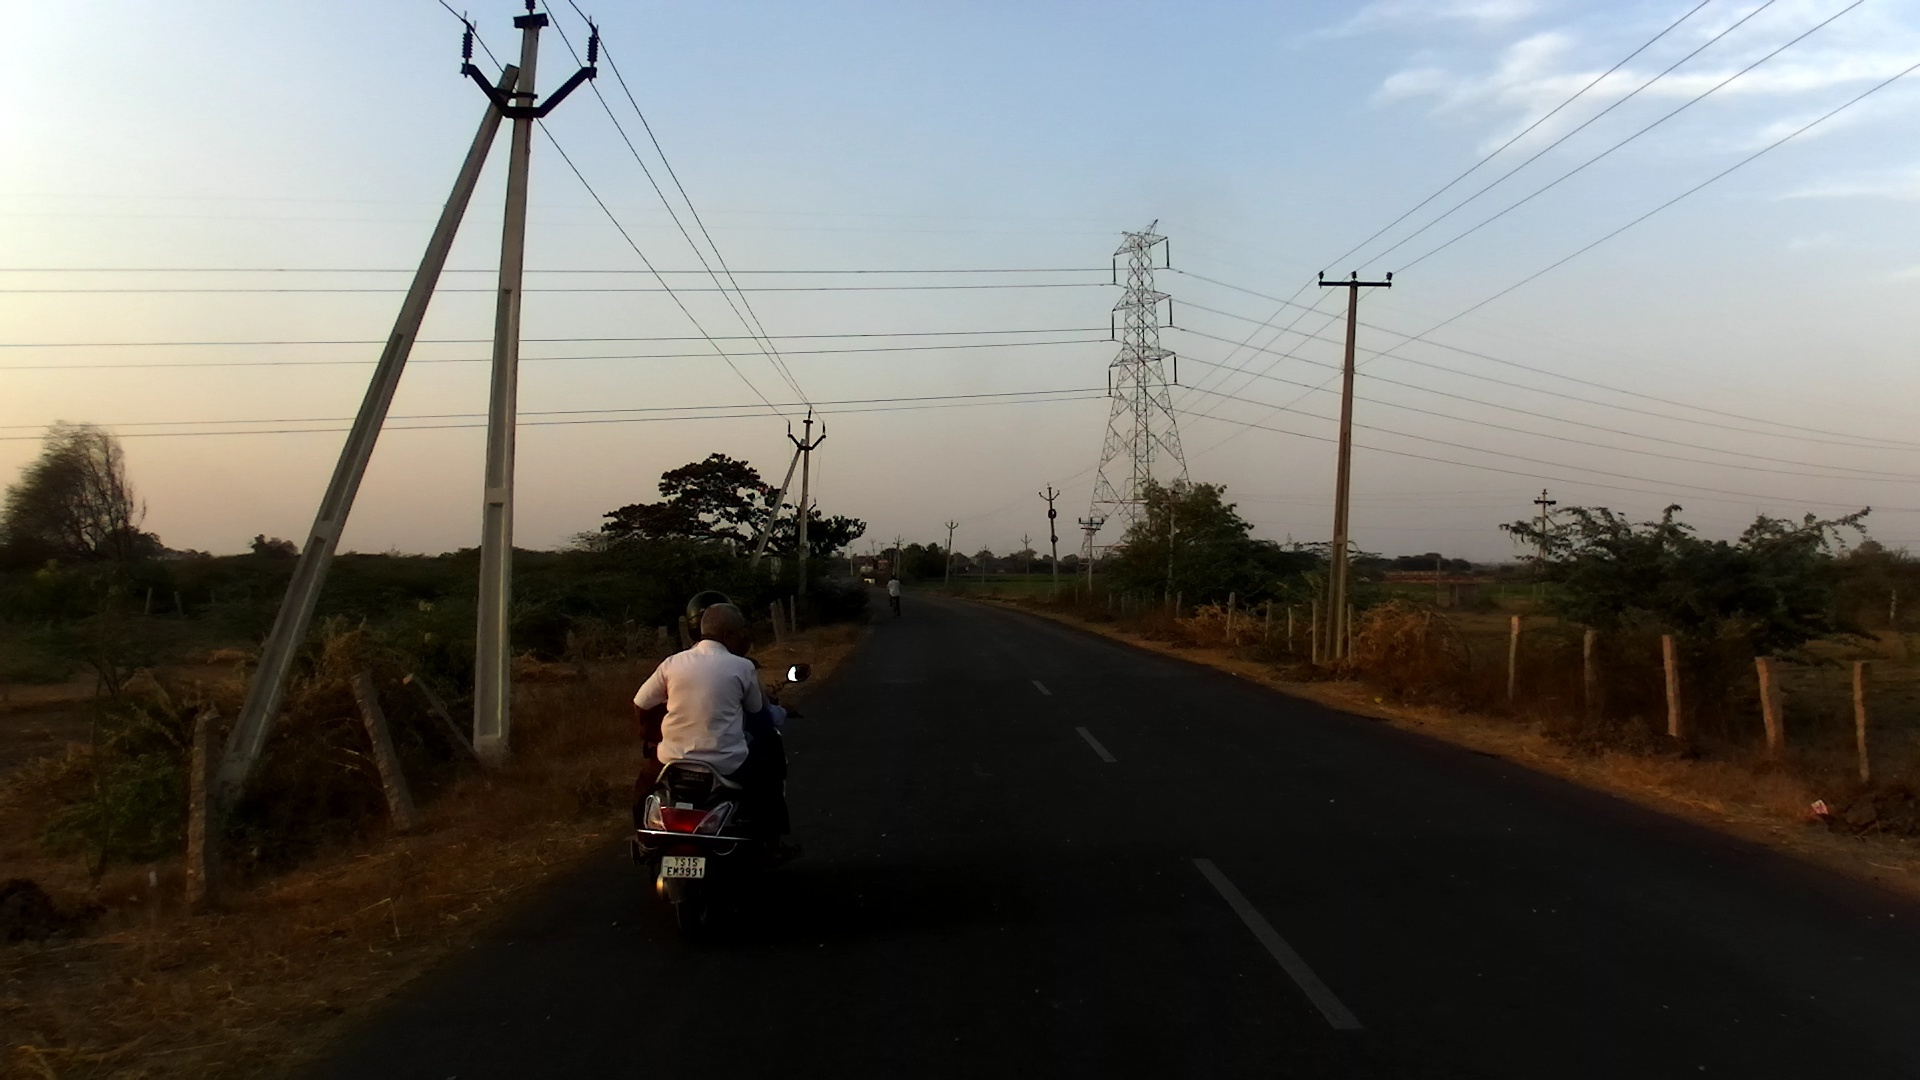bicycle: (886, 587, 905, 621)
motorcycle: (615, 658, 815, 942)
rider: (610, 604, 805, 870), (638, 591, 791, 810), (884, 576, 905, 615)
truck: (876, 560, 891, 575)
vehicle fallback: (860, 566, 873, 575)
